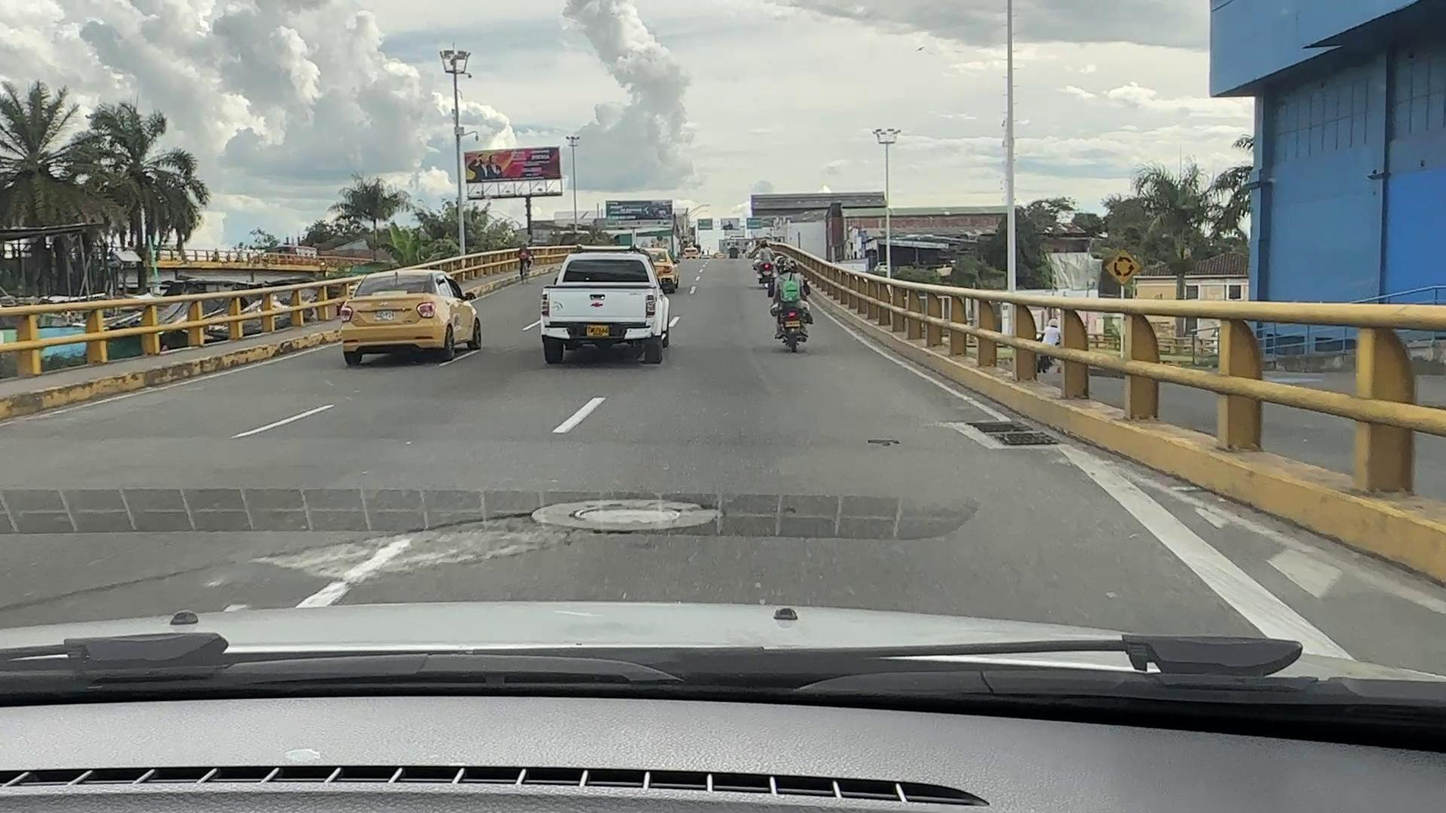bache: (257, 513, 645, 584), (868, 439, 898, 446), (699, 504, 719, 510)
registro: (574, 506, 681, 523)
rejilla: (967, 420, 1064, 446)
